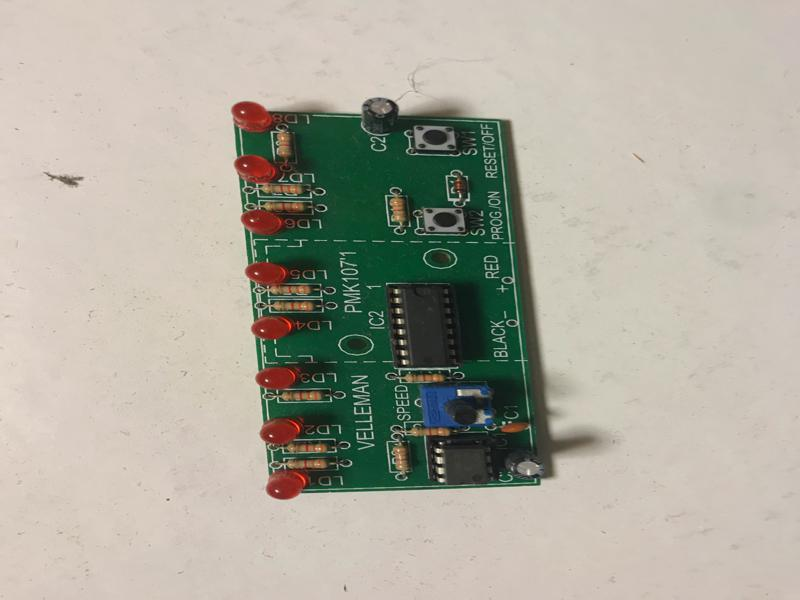Capacitor: (360, 94, 401, 137), (501, 446, 547, 481)
Diode: (450, 174, 469, 199)
LED: (263, 469, 311, 503), (229, 100, 274, 134), (231, 153, 276, 183), (259, 415, 302, 445), (239, 210, 282, 236), (244, 260, 286, 286), (251, 314, 292, 339), (254, 368, 295, 390)
Resistor: (401, 369, 454, 386), (285, 439, 335, 457), (281, 455, 335, 471), (273, 126, 296, 162), (275, 389, 330, 404), (387, 441, 411, 475), (263, 283, 321, 297), (256, 181, 310, 196), (386, 195, 409, 225), (405, 426, 456, 439), (269, 301, 324, 313), (262, 201, 312, 214)
